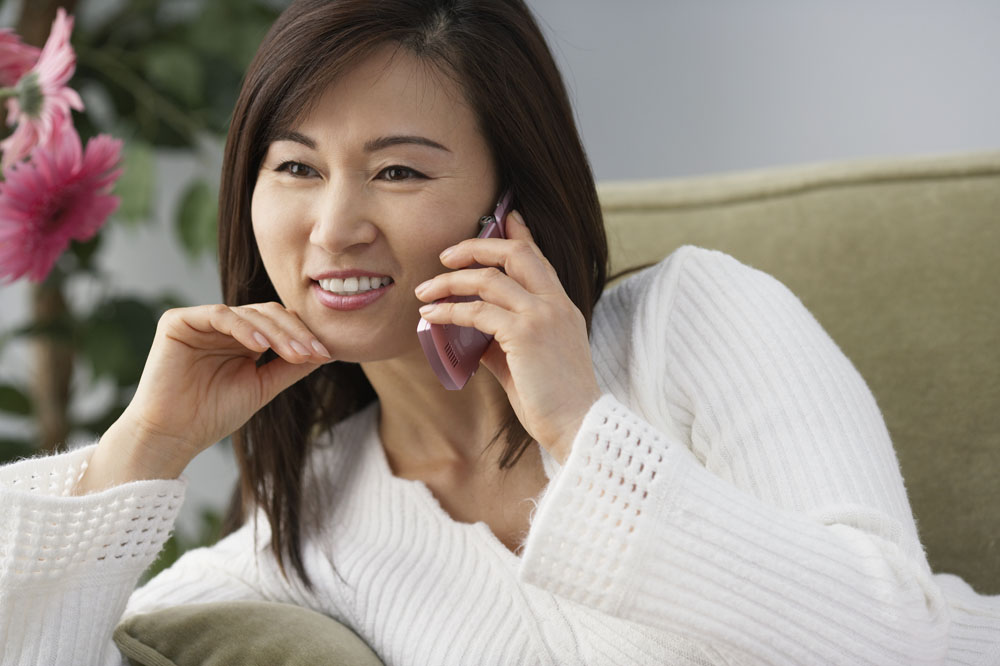phone: (408, 200, 571, 373)
talk: (255, 117, 595, 419)
